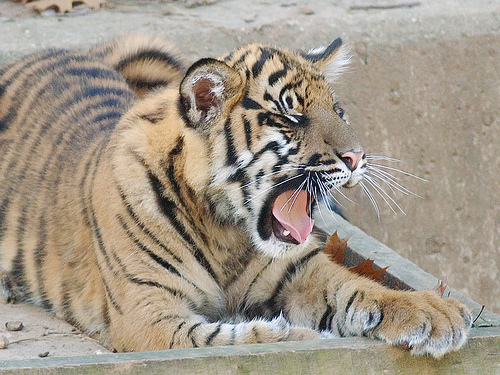Tigre: (5, 42, 478, 358)
